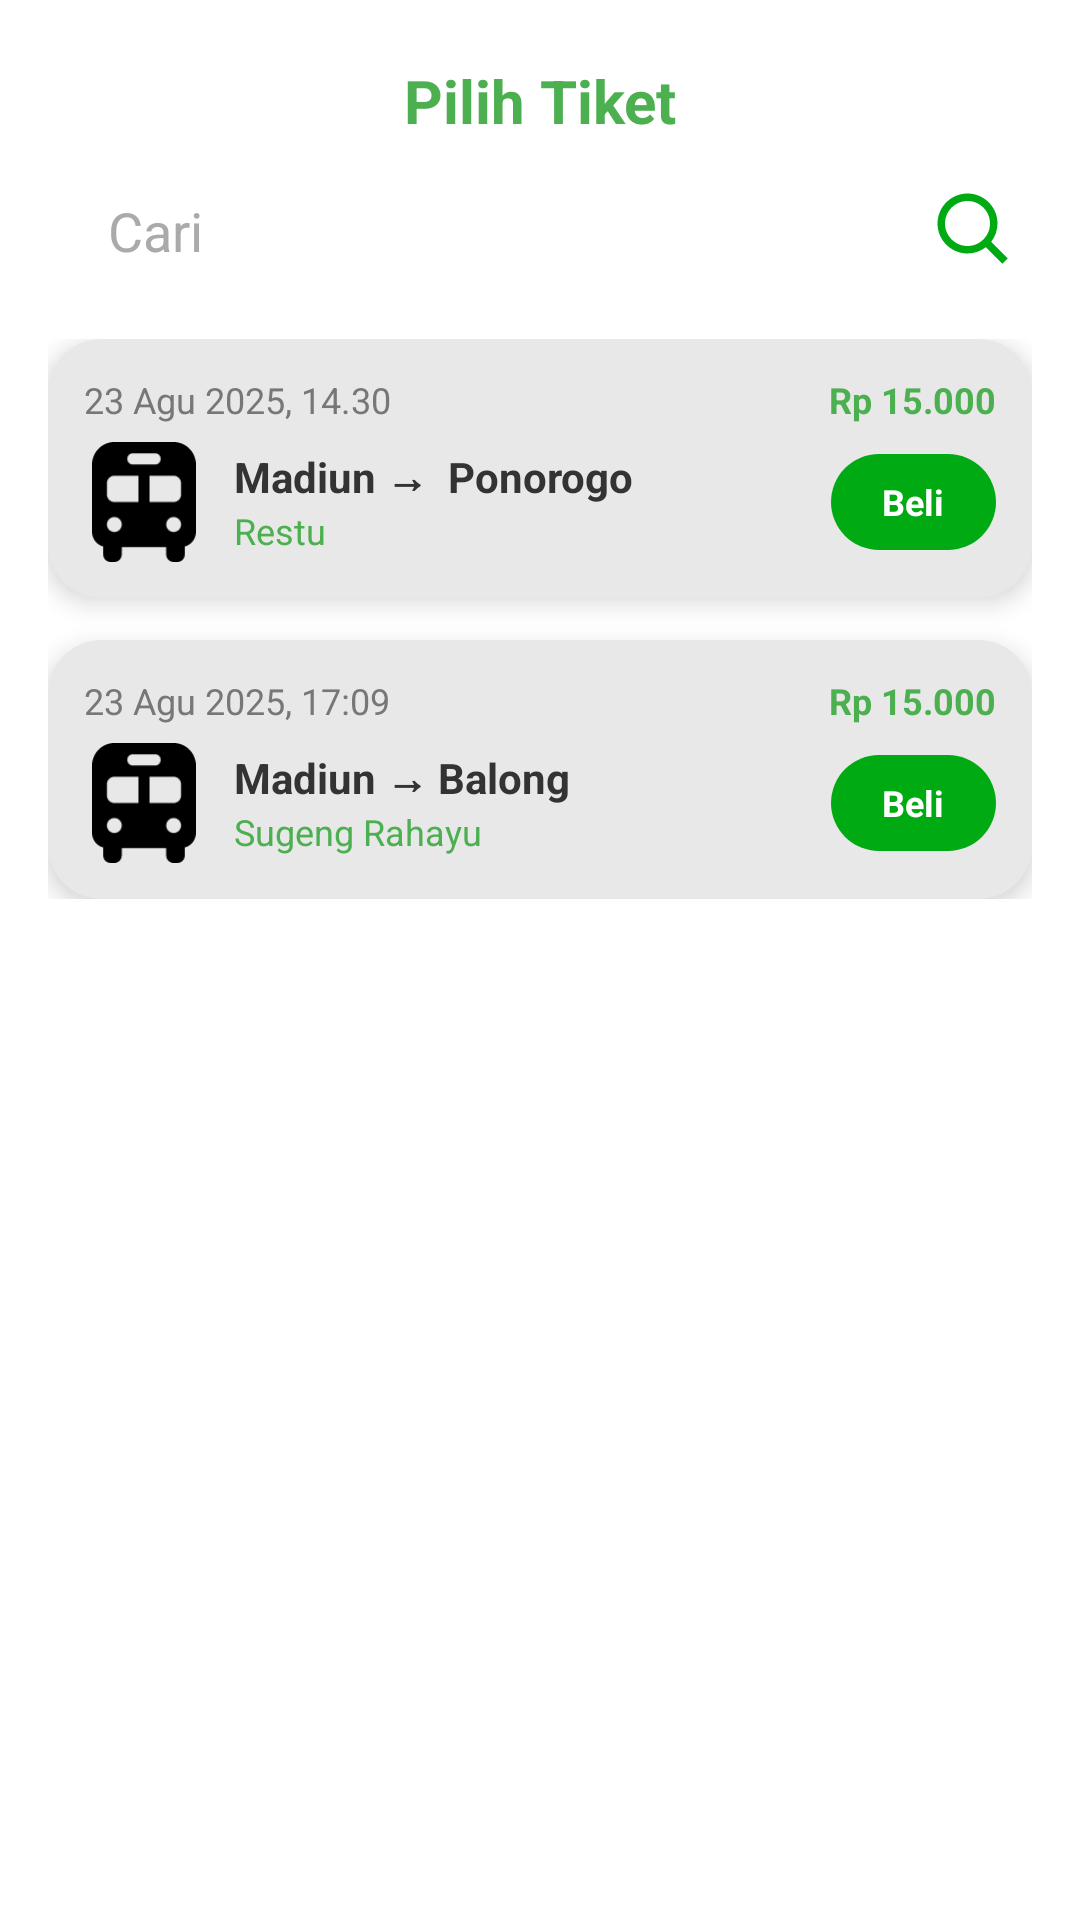

Icons on this 1080 × 1920 Android screen, each with its box as (x1, y1, x2, y2):
bus: (92, 442, 196, 562), (92, 743, 196, 863)
